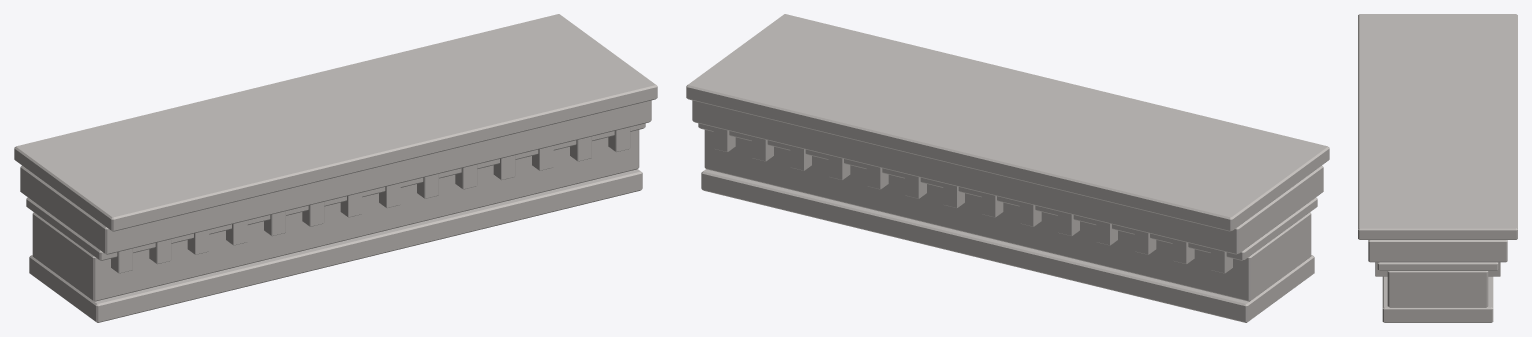
Rendered from mobile.glb.
3 renders of one model, left to right at view 1: azimuth 30°, elevation 25°; view 2: azimuth 150°, elevation 25°; view 3: azimuth 270°, elevation 25°, orthographic. The views are drawn at different scales.
Size of the model in its own units: 3 by 0.6125 by 0.94.
1 material, 1 textured.
